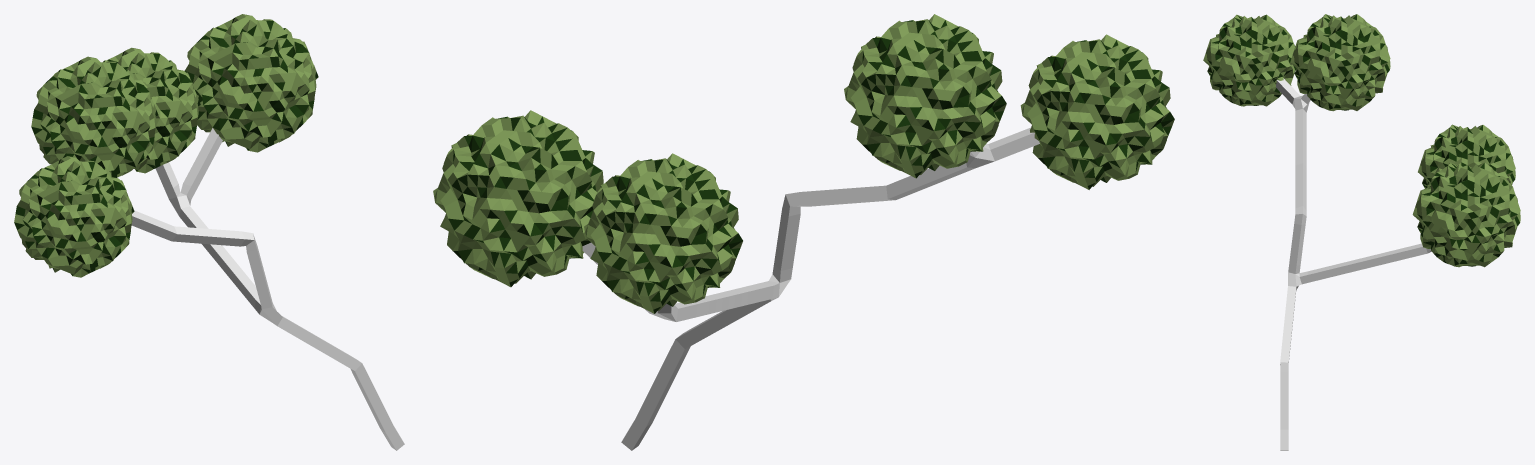
The model's file is Circuito_Arboles 3.fbx.
3 renders of one model, left to right at view 1: azimuth 30°, elevation 25°; view 2: azimuth 150°, elevation 25°; view 3: azimuth 270°, elevation 25°, orthographic. The views are drawn at different scales.
Visible parts, largest first — view 1: Icosphere.003, Icosphere.001, Icosphere.002, Cube, Icosphere.009; view 2: Icosphere.003, Icosphere.001, Icosphere.009, Icosphere.002, Cube; view 3: Icosphere.003, Icosphere.001, Icosphere.002, Cube, Icosphere.009.
Part boxes in pixels (x1,y1,x2,y2): Icosphere.003: [184, 14, 318, 152]; Icosphere.001: [31, 56, 158, 177]; Icosphere.002: [14, 156, 134, 277]; Cube: [131, 128, 404, 450]; Icosphere.009: [103, 47, 200, 173]; Icosphere.003: [433, 110, 603, 287]; Icosphere.001: [844, 14, 1006, 178]; Icosphere.009: [584, 153, 742, 313]; Icosphere.002: [1020, 34, 1174, 189]; Cube: [582, 127, 1039, 450]; Icosphere.003: [1412, 162, 1520, 267]; Icosphere.001: [1290, 14, 1390, 111]; Icosphere.002: [1203, 14, 1296, 106]; Cube: [1276, 78, 1431, 450]; Icosphere.009: [1418, 124, 1515, 188].
Bounding box in the file's own units: 2252 × 2168 × 1869.
